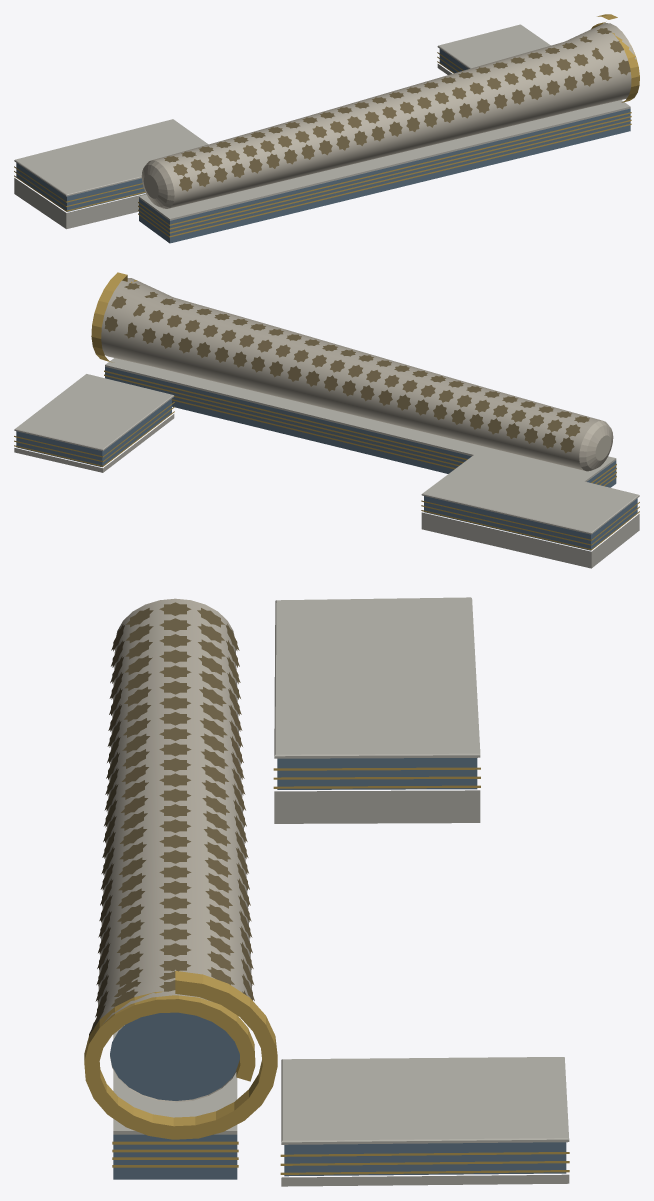
Rendered from baku-carpet-museum.glb.
The picture shows the model from 3 angles, top to bottom: view 1: azimuth 30°, elevation 25°; view 2: azimuth 150°, elevation 25°; view 3: azimuth 270°, elevation 25°; orthographic projection. The views are drawn at different scales.
Visible parts, largest first — view 1: Azerbaijan Carpet Museum; view 2: Azerbaijan Carpet Museum; view 3: Azerbaijan Carpet Museum.
Boxes of the visible parts, box(x1,y1,x2,y2) form: Azerbaijan Carpet Museum: box(14, 14, 639, 243); Azerbaijan Carpet Museum: box(14, 272, 639, 568); Azerbaijan Carpet Museum: box(84, 597, 569, 1186).
Size of the model in its own units: 123 by 22.38 by 48.58.
